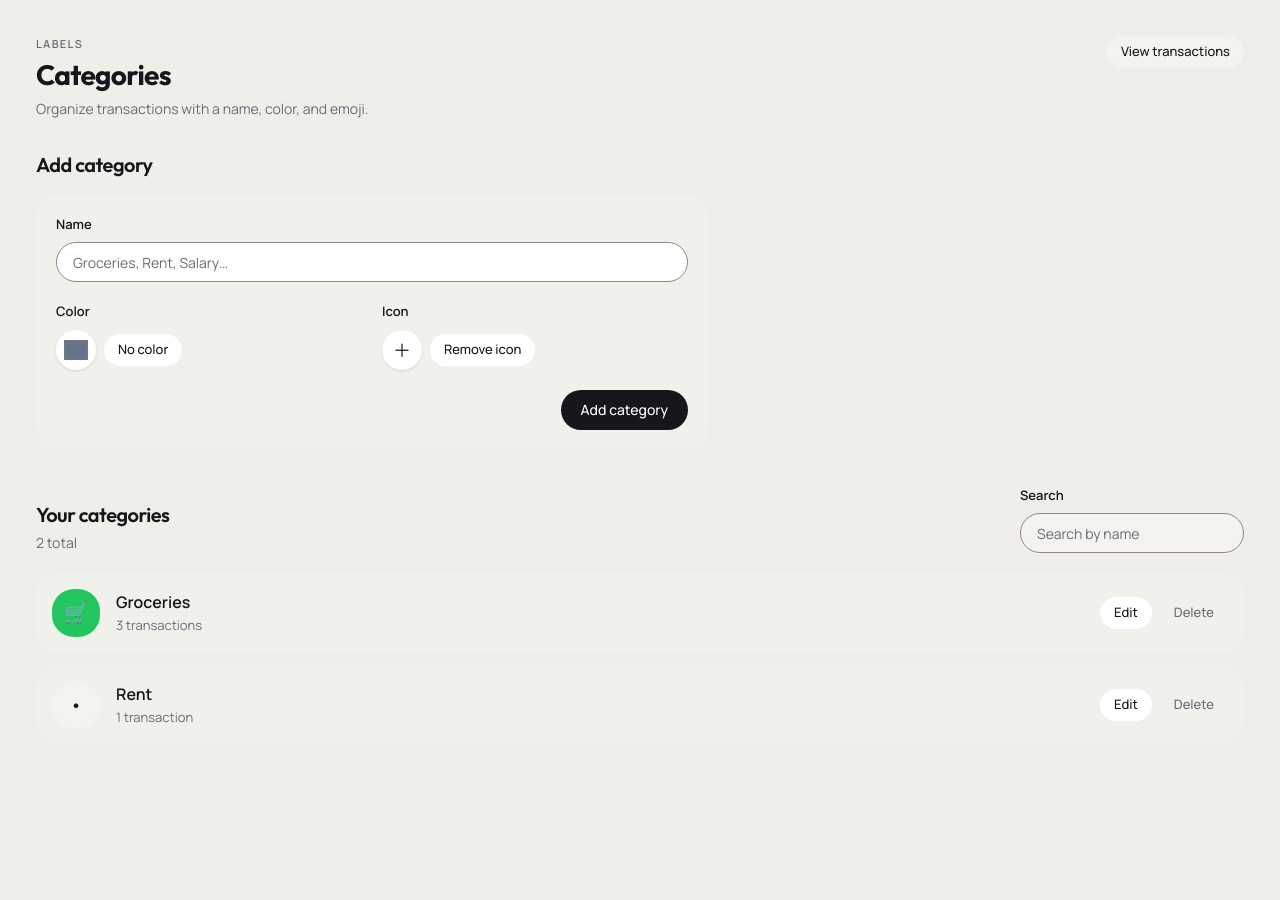
Test: CategoriesPage › icon picker › names the icon button in both its empty and chosen states
Expected: the text "Groceries" is shown, [116,591,190,613]
Expected: the button named "Choose an icon" is shown, [382,330,422,370]
Click the button "Edit" in the row of "Groceries": point(1126, 613) [1100,597,1152,629]
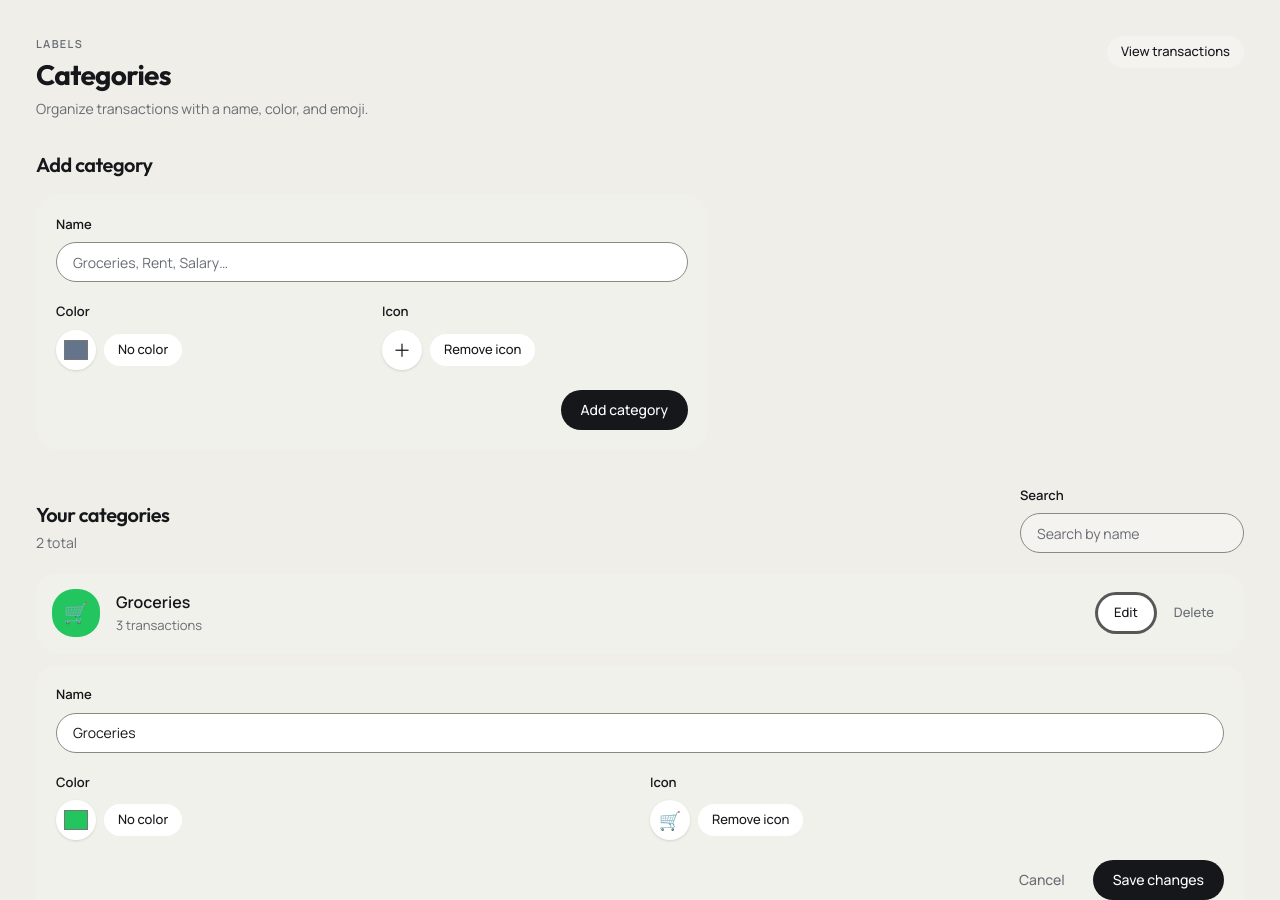
Expected: the button named "Change icon, currently 🛒" is shown, [650,800,690,840]
